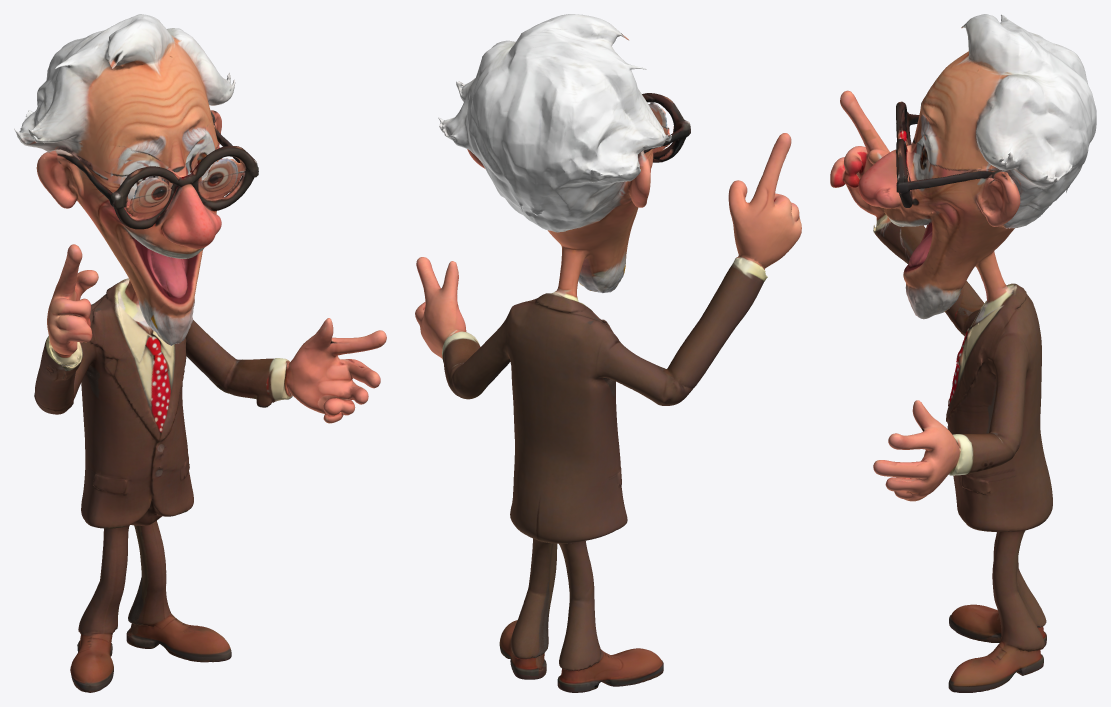
File: Professor_Whiz_0720133453_texture.glb
3 views of the same model, side by side, from view 1: azimuth 30°, elevation 25°; view 2: azimuth 150°, elevation 25°; view 3: azimuth 270°, elevation 25° (orthographic). The views are drawn at different scales.
Size of the model in its own units: 1.16 by 2 by 0.7605.
1 material, 1 textured.
